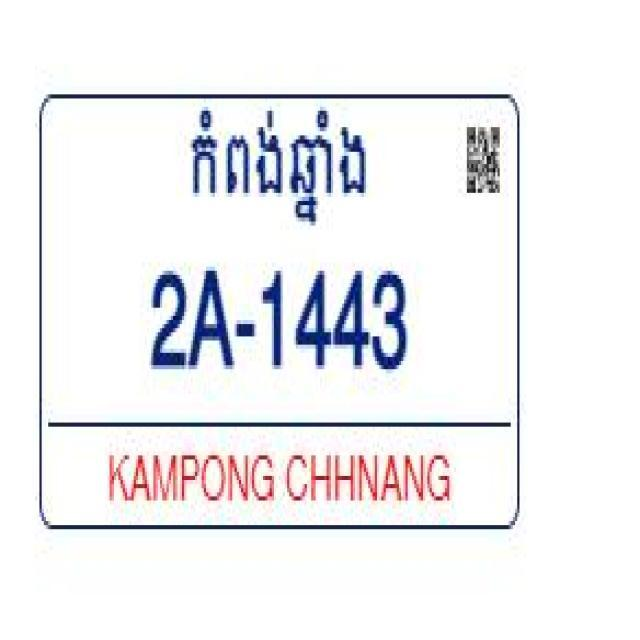Kampong_Chhnang: (191, 103, 369, 237)
